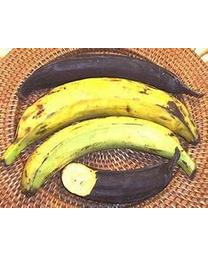banana: (1, 64, 201, 197)
